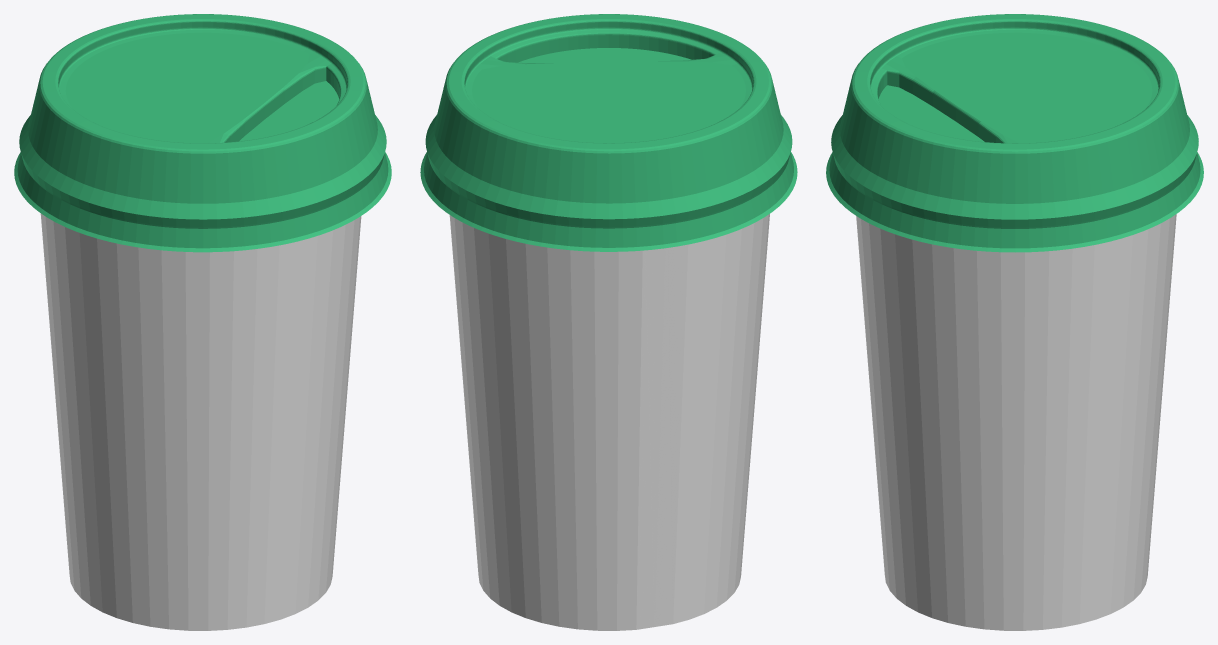
The model's file is Closed.fbx.
3 renders of one model, left to right at view 1: azimuth 30°, elevation 25°; view 2: azimuth 150°, elevation 25°; view 3: azimuth 270°, elevation 25°, orthographic.
Visible parts, largest first — view 1: coffee_cup, coffee_cup.001; view 2: coffee_cup, coffee_cup.001; view 3: coffee_cup, coffee_cup.001.
Boxes of the visible parts, <box> form: coffee_cup: <box>40,213,361,630</box>; coffee_cup.001: <box>14,14,391,252</box>; coffee_cup: <box>449,214,769,630</box>; coffee_cup.001: <box>420,14,797,251</box>; coffee_cup: <box>856,214,1176,630</box>; coffee_cup.001: <box>826,14,1203,252</box>.
Size of the model in its own units: 9 by 13 by 9.
